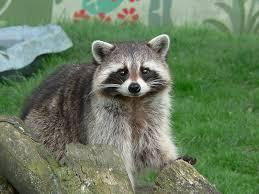raccoon: (0, 20, 208, 194)
